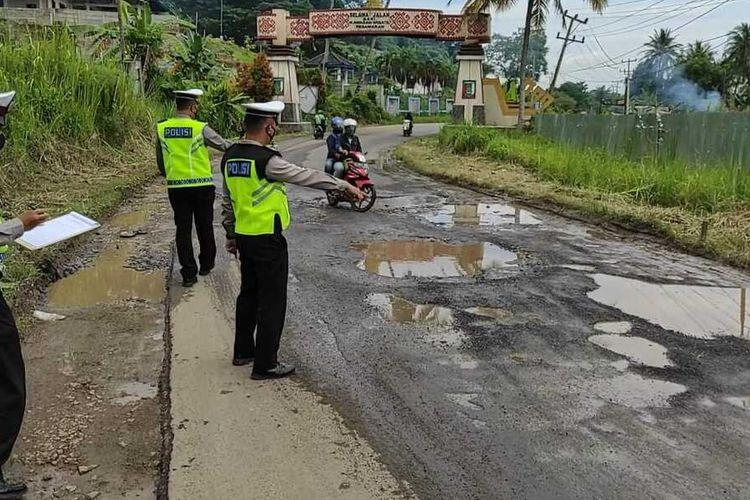Pothole: (43, 180, 174, 323), (563, 245, 742, 348), (330, 218, 559, 285), (579, 309, 682, 422), (395, 172, 561, 229), (365, 290, 473, 333)
